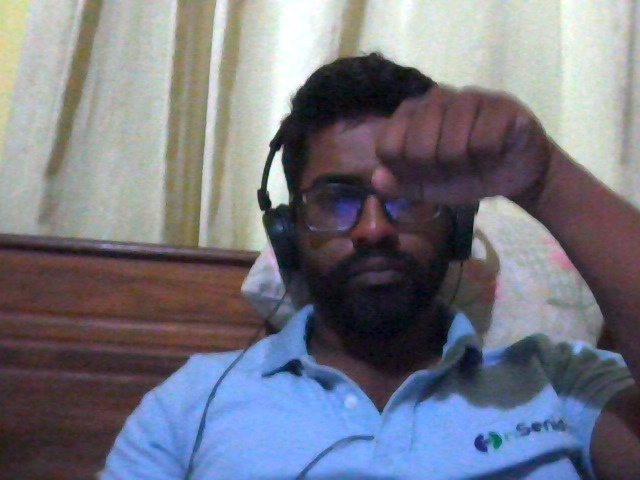Yes: (351, 48, 587, 257)
